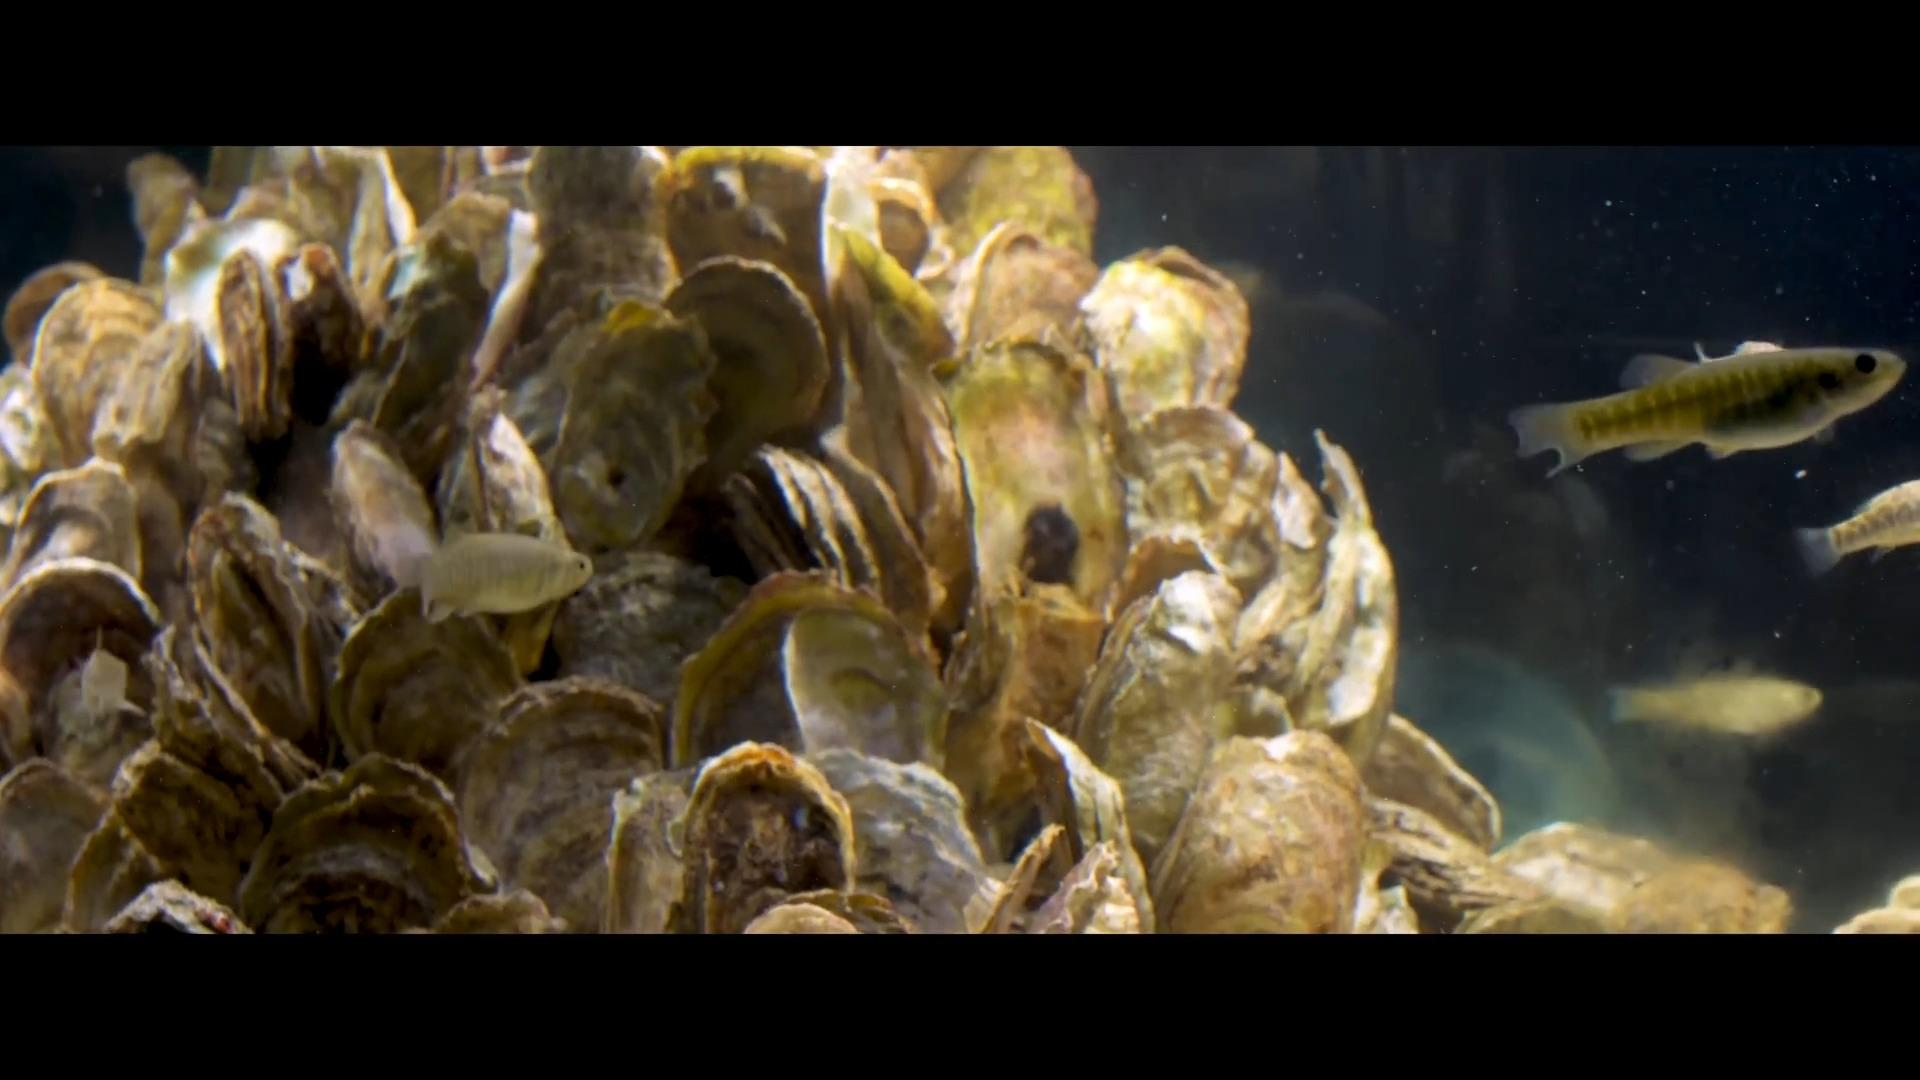Oyster: (931, 326, 1118, 650), (666, 570, 942, 778), (1067, 567, 1240, 874), (1249, 426, 1395, 779), (460, 676, 663, 930), (819, 235, 959, 589), (935, 570, 1109, 845), (1145, 724, 1371, 935), (665, 742, 909, 934), (233, 748, 479, 934), (181, 492, 343, 764), (543, 301, 716, 551), (74, 736, 276, 928), (1102, 394, 1280, 608), (662, 255, 825, 476), (0, 553, 164, 769), (330, 589, 524, 769), (1073, 245, 1254, 433), (546, 545, 750, 702), (651, 145, 837, 314), (509, 140, 674, 328), (353, 261, 491, 475), (938, 218, 1102, 369), (4, 462, 154, 626), (92, 310, 219, 501), (327, 423, 446, 600), (0, 754, 112, 931), (1357, 708, 1495, 851), (272, 236, 371, 429), (208, 245, 291, 442)
